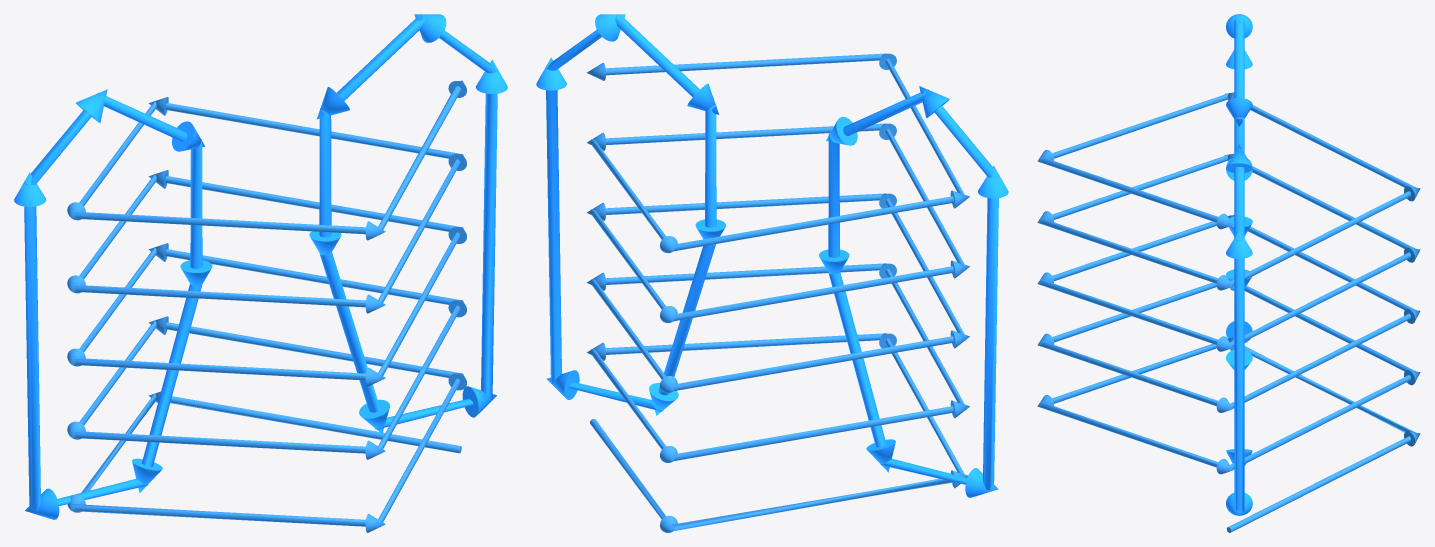
File: agitated_reactor_flow.glb
3 views of the same model, side by side, from view 1: azimuth 30°, elevation 25°; view 2: azimuth 150°, elevation 25°; view 3: azimuth 270°, elevation 25° (orthographic). The views are drawn at different scales.
Parts seen in each view (by area): view 1: coolant, circulation_1, circulation_0; view 2: coolant, circulation_1, circulation_0; view 3: coolant, circulation_0, circulation_1.
Part boxes in pixels (<box>): coolant: <box>67,80,466,532</box>; circulation_1: <box>14,89,212,519</box>; circulation_0: <box>309,14,507,433</box>; coolant: <box>586,53,969,532</box>; circulation_1: <box>819,86,1008,497</box>; circulation_0: <box>536,14,725,415</box>; coolant: <box>1037,92,1420,532</box>; circulation_0: <box>1226,144,1252,515</box>; circulation_1: <box>1226,14,1252,370</box>.
Bounding box in the file's own units: 0.911 × 0.7896 × 0.7369.
